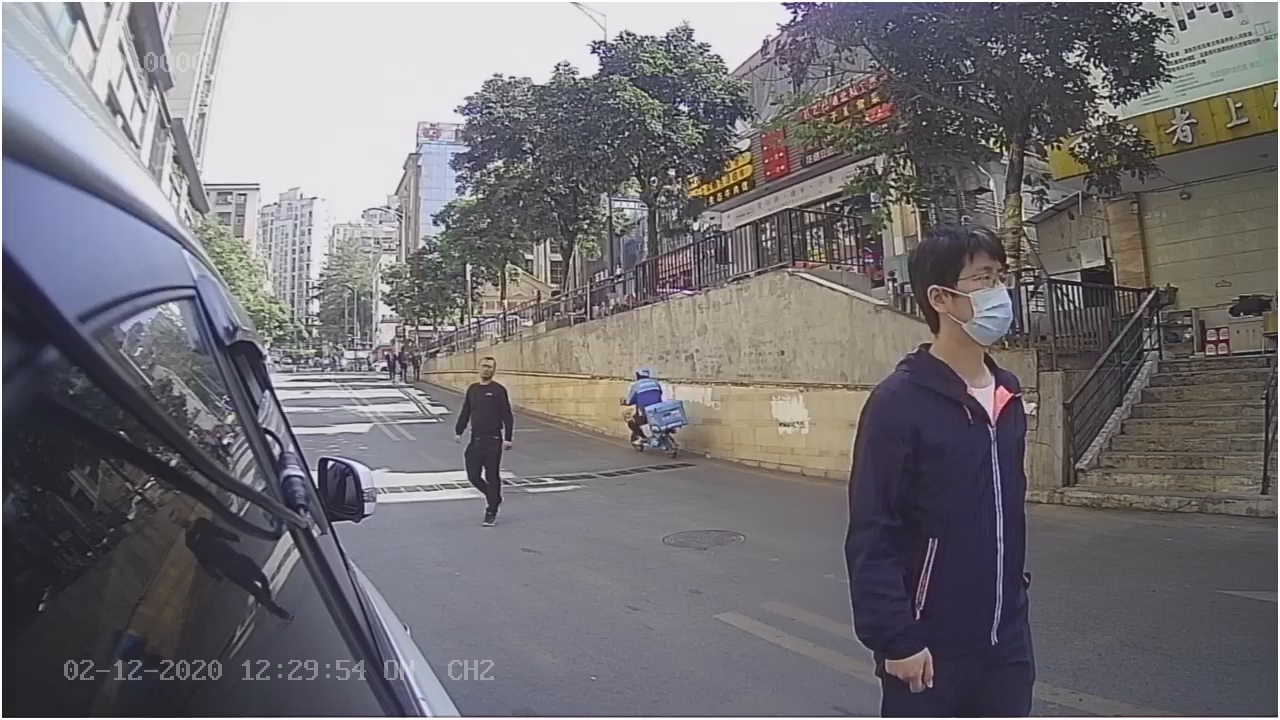person: (832, 214, 1086, 689), (441, 353, 528, 525)
